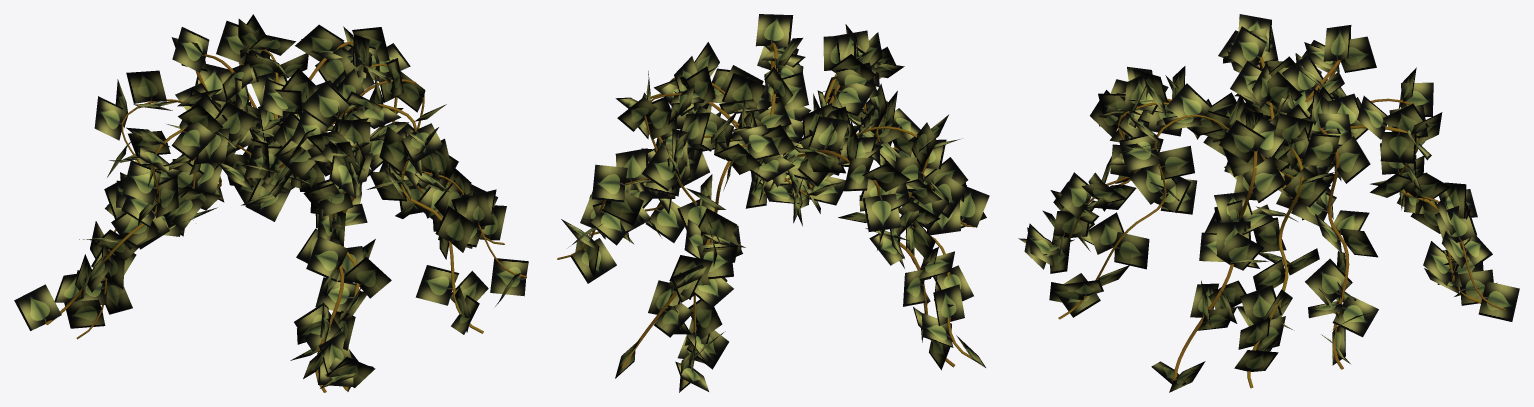
The model's file is 3D_HangingVines.fbx.
3 views of the same model, side by side, from view 1: azimuth 30°, elevation 25°; view 2: azimuth 150°, elevation 25°; view 3: azimuth 270°, elevation 25° (orthographic). The views are drawn at different scales.
Visible parts, largest first — view 1: BezierCurve.004, Plane.126, Plane.211, Plane.196, Plane.309, Plane.287, Plane.137, Plane.390, Plane.266, Plane.198, Plane.168, Plane.143 (+55 smaller); view 2: BezierCurve.004, Plane.385, Plane.351, Plane.207, Plane.237, Plane.391, Plane.128, Plane.308, Plane.340, Plane.331, Plane.268, Plane.304 (+60 smaller); view 3: BezierCurve.004, Plane.252, Plane.346, Plane.326, Plane.343, Plane.325, Plane.239, Plane.205, Plane.197, Plane.356, Plane.201, Plane.144 (+58 smaller).
Boxes of the visible parts, left/top/right/bottom form: BezierCurve.004: left=45, top=41, right=526, bottom=392; Plane.126: left=14, top=284, right=61, bottom=330; Plane.211: left=302, top=80, right=351, bottom=129; Plane.196: left=415, top=265, right=459, bottom=305; Plane.309: left=490, top=258, right=528, bottom=296; Plane.287: left=306, top=236, right=348, bottom=281; Plane.137: left=122, top=160, right=160, bottom=204; Plane.390: left=126, top=70, right=166, bottom=103; Plane.266: left=172, top=27, right=209, bottom=72; Plane.198: left=435, top=206, right=475, bottom=252; Plane.168: left=344, top=257, right=391, bottom=298; Plane.143: left=171, top=122, right=215, bottom=160; BezierCurve.004: left=557, top=42, right=974, bottom=384; Plane.385: left=862, top=193, right=901, bottom=231; Plane.351: left=592, top=164, right=627, bottom=202; Plane.207: left=756, top=14, right=793, bottom=46; Plane.237: left=642, top=145, right=686, bottom=191; Plane.391: left=808, top=116, right=849, bottom=151; Plane.128: left=933, top=284, right=964, bottom=325; Plane.308: left=645, top=201, right=684, bottom=242; Plane.340: left=570, top=238, right=616, bottom=283; Plane.331: left=722, top=73, right=765, bottom=113; Plane.268: left=738, top=125, right=779, bottom=160; Plane.304: left=832, top=83, right=873, bottom=116; BezierCurve.004: left=1058, top=56, right=1505, bottom=388; Plane.252: left=1478, top=281, right=1519, bottom=321; Plane.346: left=1305, top=258, right=1352, bottom=305; Plane.326: left=1219, top=120, right=1265, bottom=162; Plane.343: left=1332, top=296, right=1378, bottom=337; Plane.325: left=1243, top=156, right=1286, bottom=202; Plane.239: left=1380, top=131, right=1416, bottom=163; Plane.205: left=1119, top=134, right=1159, bottom=171; Plane.197: left=1114, top=232, right=1149, bottom=269; Plane.356: left=1332, top=136, right=1370, bottom=183; Plane.201: left=1130, top=164, right=1177, bottom=204; Plane.144: left=1228, top=26, right=1266, bottom=66.
Bounding box in the file's own units: 580 × 321 × 581.
